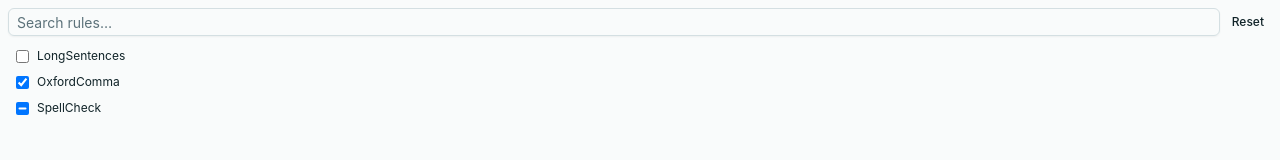
RulesPanel › filters rules by the search query
In the search field labelled "Search rules": x=614, y=22 [8,8,1220,36], type "oxford"
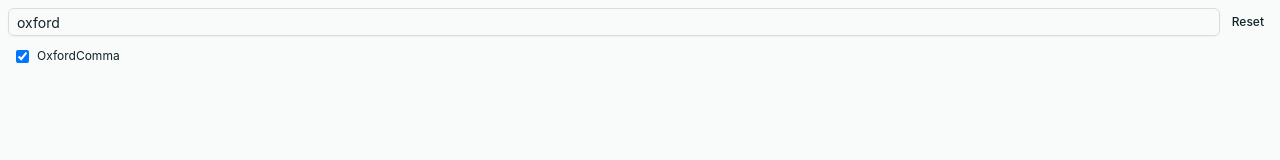
Expected: the text "OxfordComma" is shown, [37,48,120,64]
Expected: the text "SpellCheck" is gone
